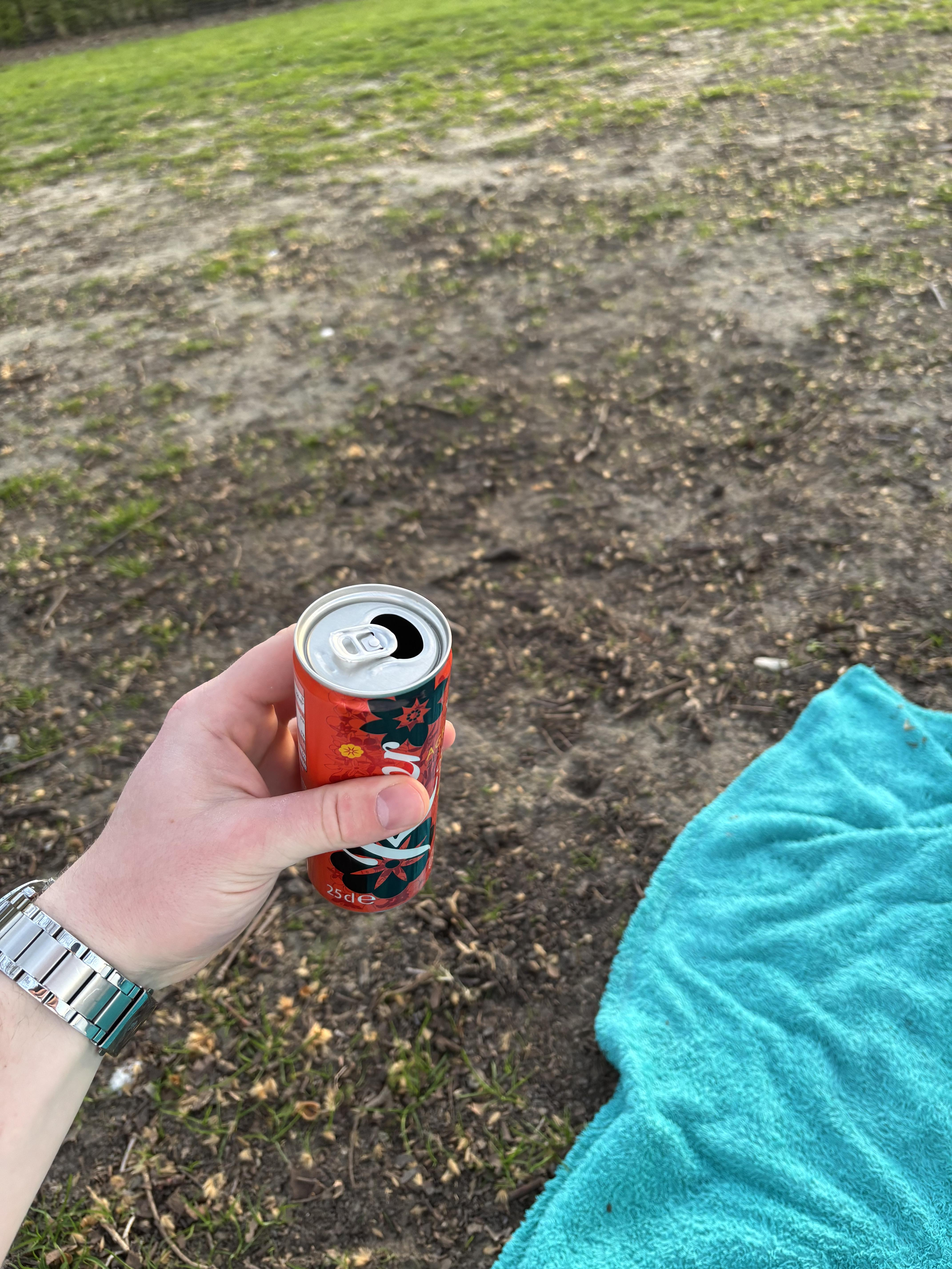Metal: (289, 582, 456, 923)
